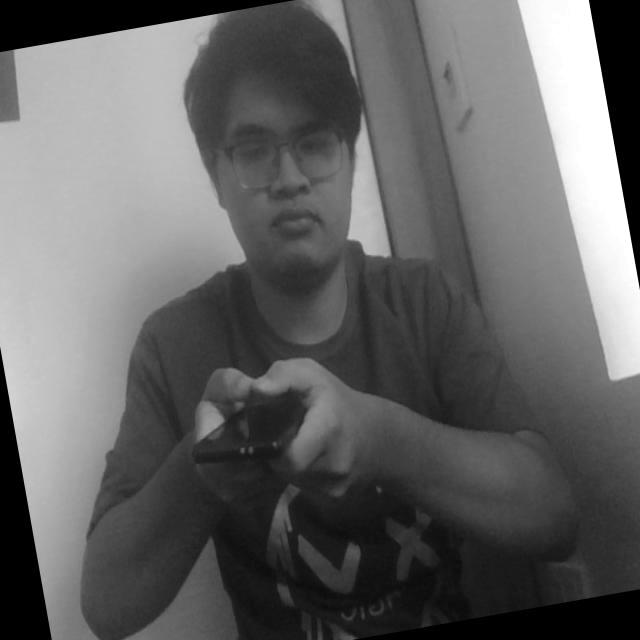phone: (160, 354, 330, 497)
